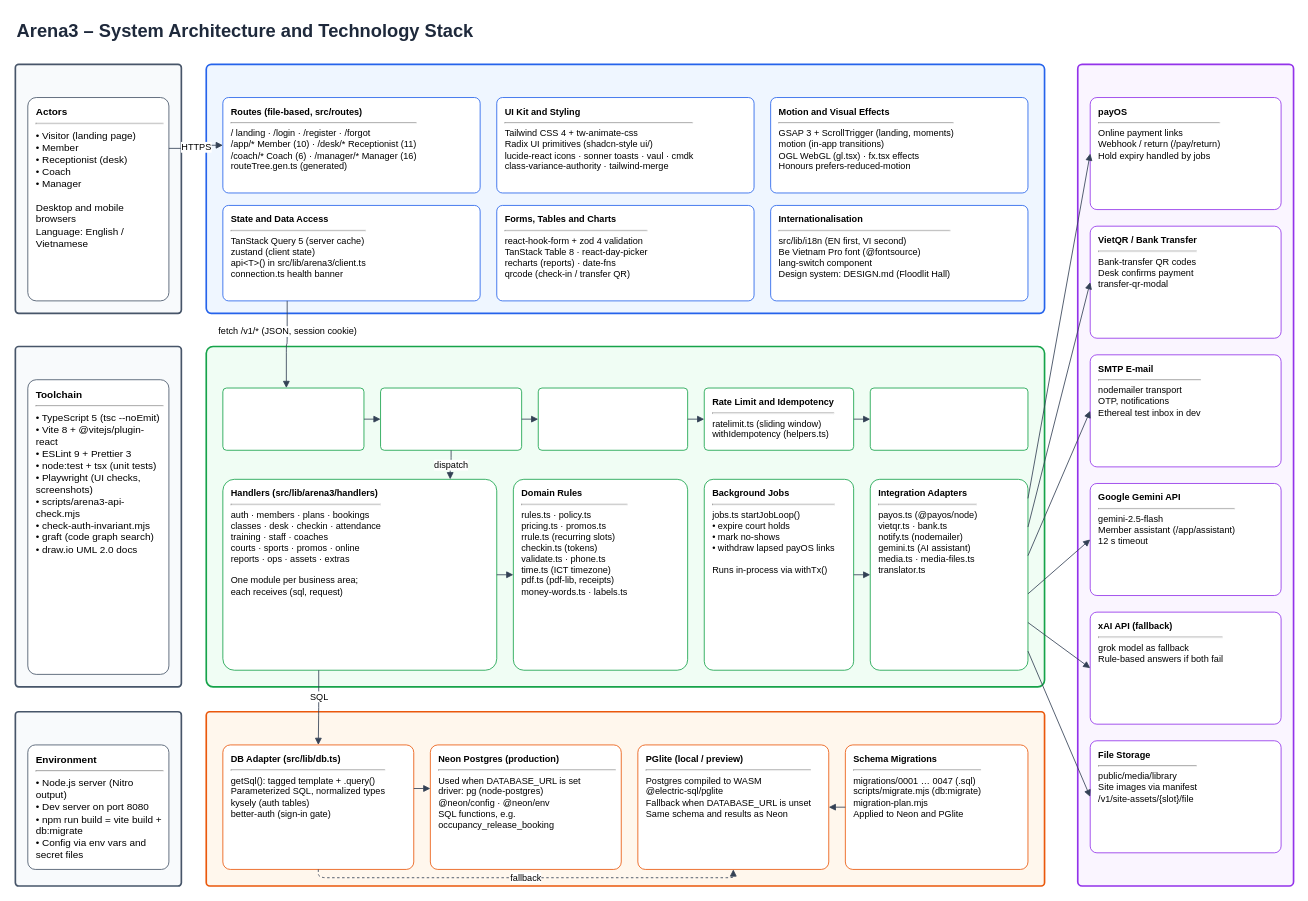
The diagram is 1308 pixels wide and 901 high, and some of its shapes have lost their labels. The box of each missing label's shape, as (x1, y1, x2, y2) in pixels:
API Entry src/routes/v1.$.ts GET/POST/PUT/PATCH/DELETE: (222, 387, 364, 450)
CLIENT – React 19 SPA with SSR hydration (TanStack Router): (205, 63, 1045, 314)
DATA – PostgreSQL: (205, 710, 1045, 886)
Dev Tooling and Quality: (14, 345, 182, 687)
EXTERNAL SERVICES: (1077, 63, 1294, 886)
Router arena3/router.ts dispatch() by path + method: (380, 387, 522, 450)
Runtime and Deploy: (14, 710, 182, 886)
SERVER – TanStack Start + Nitro on Node.js (SSR pages and REST API /v1/*): (205, 345, 1045, 687)
Session and Roles session.ts · crypto.ts hashed tokens, role guard: (537, 387, 688, 450)
Transaction tx.ts withTx() errors.ts ApiError → JSON: (869, 387, 1028, 450)
Users (Web Browser): (14, 63, 182, 314)
